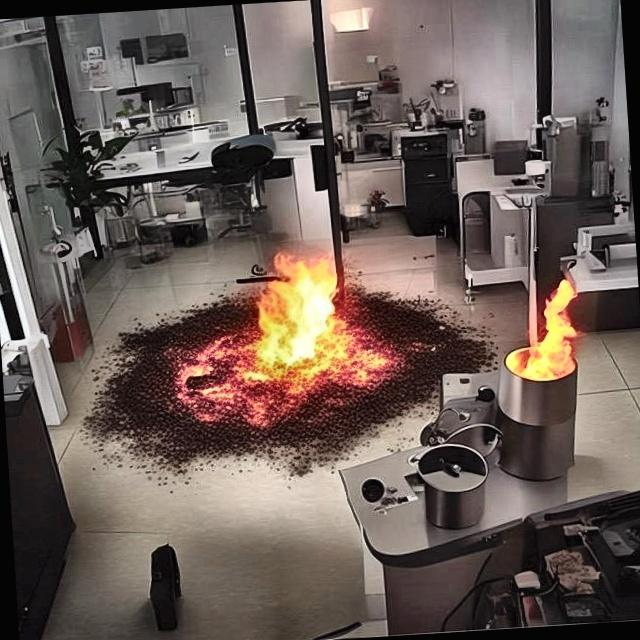fire: (179, 240, 387, 442), (491, 253, 603, 412)
